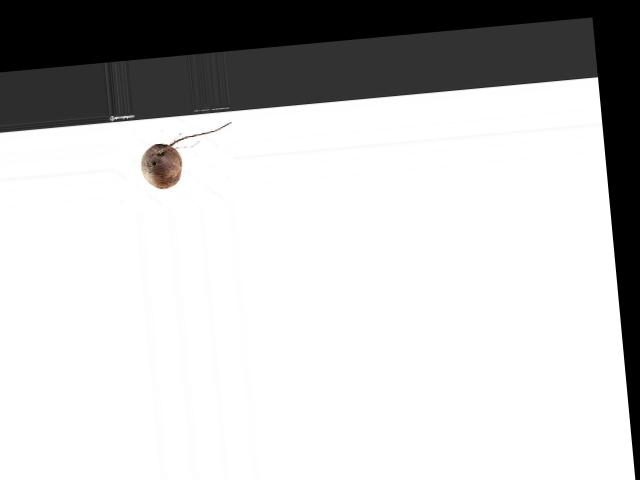beet: (138, 121, 237, 190)
